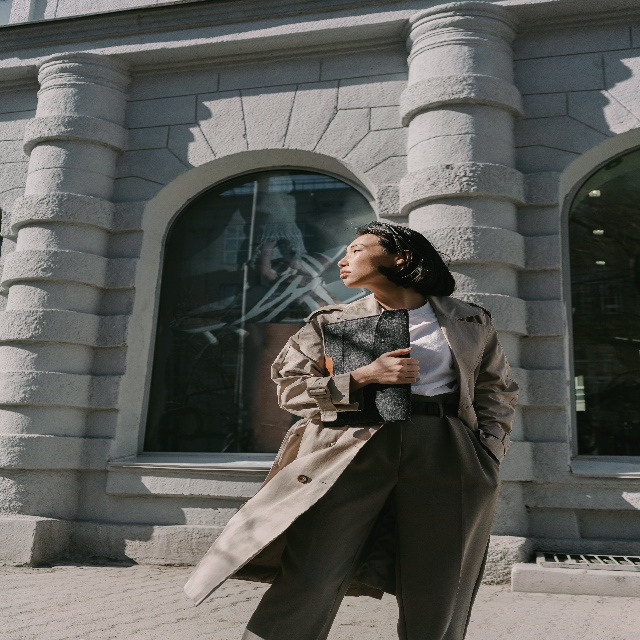Sin_guantes: (371, 346, 421, 387)
